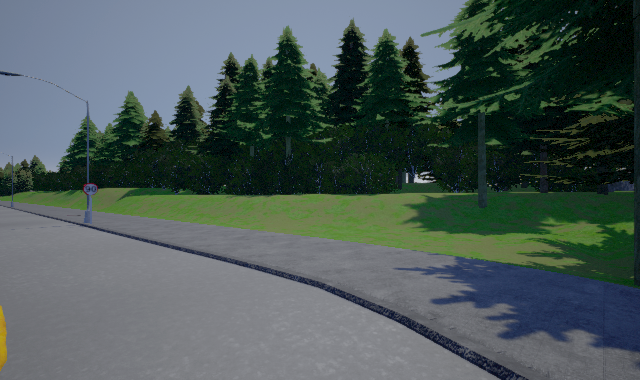traffic_sign: (83, 183, 98, 196)
